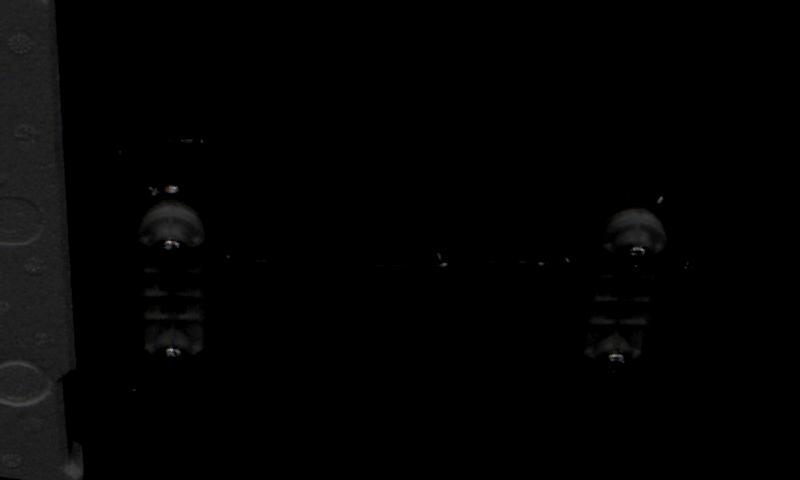vida-ok: (617, 237, 661, 276), (596, 342, 635, 382), (150, 232, 189, 271), (155, 340, 192, 375)
